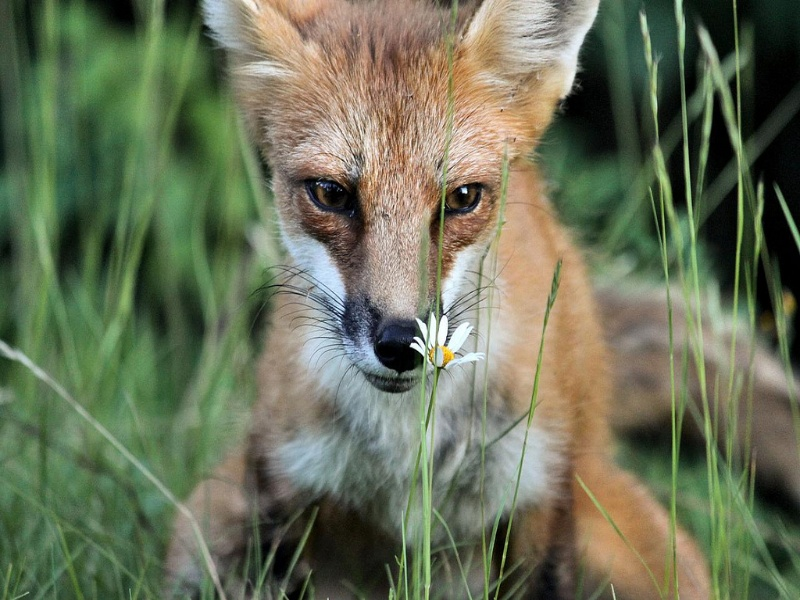fox: (150, 1, 738, 597)
